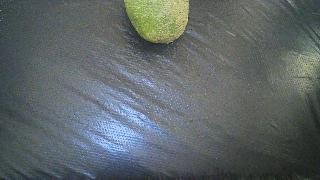DESECHO: (124, 0, 189, 44)
